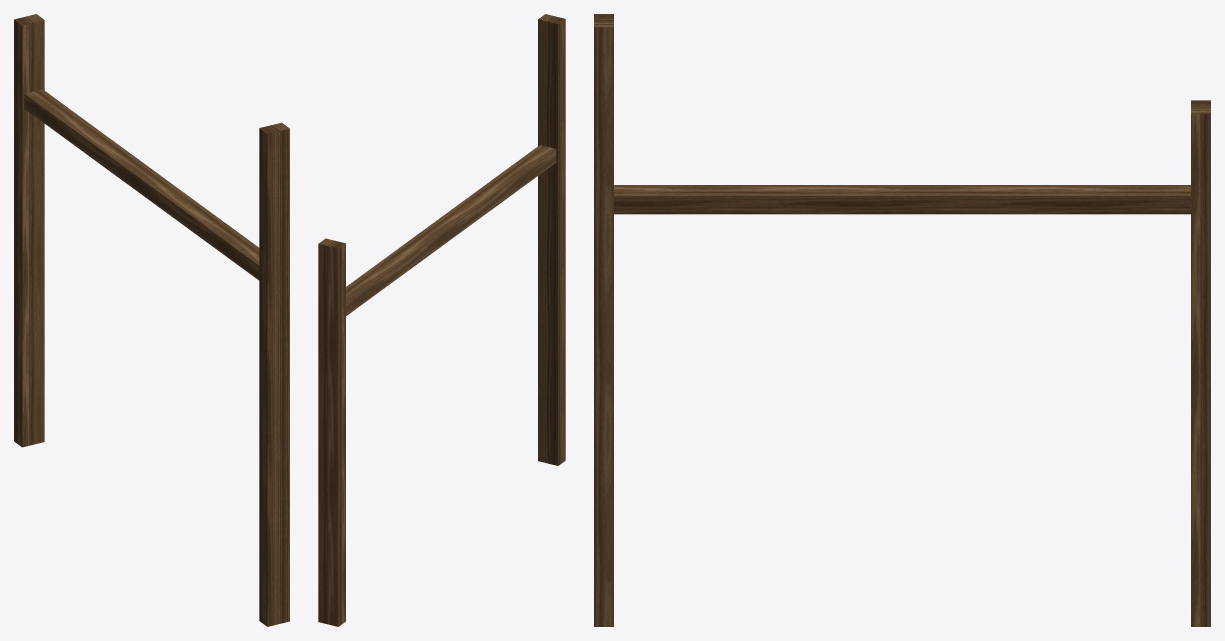
File: Wooden 30.glb
3 renders of one model, left to right at view 1: azimuth 30°, elevation 25°; view 2: azimuth 150°, elevation 25°; view 3: azimuth 270°, elevation 25°, orthographic. The views are drawn at different scales.
Parts seen in each view (by area): view 1: Wooden_30; view 2: Wooden_30; view 3: Wooden_30.
Part boxes in pixels (<box>): Wooden_30: <box>14,14,289,626</box>; Wooden_30: <box>318,14,565,626</box>; Wooden_30: <box>594,14,1210,626</box>.
Bounding box in the file's own units: 0.0795 × 1.66 × 1.55.
1 material, 1 textured.
